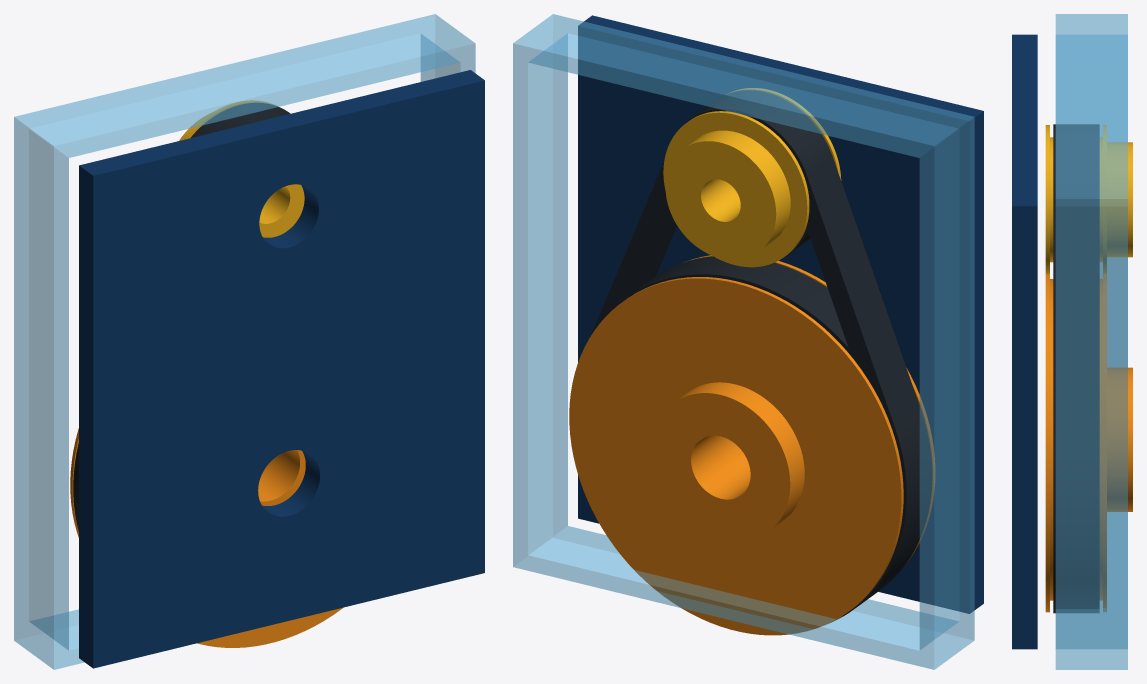
The model's file is LD-25_candidate.glb.
The picture shows the model from 3 angles, left to right: view 1: azimuth 30°, elevation 25°; view 2: azimuth 150°, elevation 25°; view 3: azimuth 270°, elevation 25°; orthographic projection. The views are drawn at different scales.
Parts seen in each view (by area): view 1: SLOTTED_CARRIER_PLATE, REMOVABLE_GUARD_ENVELOPE, MISUMI_OUTPUT_PULLEY_ENVELOPE, MISUMI_MOTOR_PULLEY_ENVELOPE, MISUMI_EV5GT_BELT_ROUTING_ENVELOPE; view 2: REMOVABLE_GUARD_ENVELOPE, MISUMI_OUTPUT_PULLEY_ENVELOPE, SLOTTED_CARRIER_PLATE, MISUMI_EV5GT_BELT_ROUTING_ENVELOPE, MISUMI_MOTOR_PULLEY_ENVELOPE; view 3: REMOVABLE_GUARD_ENVELOPE, MISUMI_EV5GT_BELT_ROUTING_ENVELOPE, SLOTTED_CARRIER_PLATE, MISUMI_OUTPUT_PULLEY_ENVELOPE, MISUMI_MOTOR_PULLEY_ENVELOPE.
Boxes of the visible parts, x1,y1,x2,y2 form: SLOTTED_CARRIER_PLATE: (79,70,484,668); REMOVABLE_GUARD_ENVELOPE: (14,14,475,669); MISUMI_OUTPUT_PULLEY_ENVELOPE: (70,428,343,647); MISUMI_MOTOR_PULLEY_ENVELOPE: (179,100,304,237); MISUMI_EV5GT_BELT_ROUTING_ENVELOPE: (73,103,290,531); REMOVABLE_GUARD_ENVELOPE: (513,14,974,669); MISUMI_OUTPUT_PULLEY_ENVELOPE: (569,255,934,635); SLOTTED_CARRIER_PLATE: (578,15,983,613); MISUMI_EV5GT_BELT_ROUTING_ENVELOPE: (590,90,931,623); MISUMI_MOTOR_PULLEY_ENVELOPE: (663,88,841,267); REMOVABLE_GUARD_ENVELOPE: (1055,14,1127,669); MISUMI_EV5GT_BELT_ROUTING_ENVELOPE: (1053,124,1099,613); SLOTTED_CARRIER_PLATE: (1012,34,1037,649); MISUMI_OUTPUT_PULLEY_ENVELOPE: (1045,274,1132,612); MISUMI_MOTOR_PULLEY_ENVELOPE: (1045,125,1132,274).
Size of the model in its own units: 85 by 105 by 23.5.
